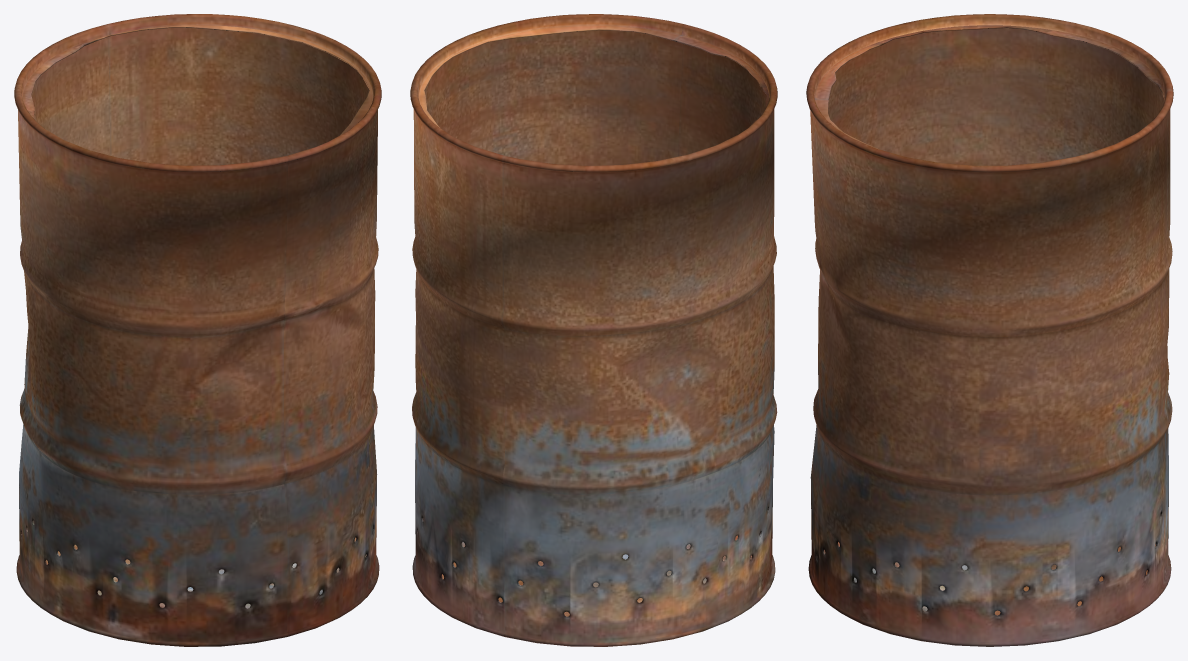
Rendered from fire_barrel.glb.
3 renders of one model, left to right at view 1: azimuth 30°, elevation 25°; view 2: azimuth 150°, elevation 25°; view 3: azimuth 270°, elevation 25°, orthographic.
Parts seen in each view (by area): view 1: barrel_stove; view 2: barrel_stove; view 3: barrel_stove.
Boxes of the visible parts, left/top/right/bottom form: barrel_stove: left=14, top=14, right=381, bottom=646; barrel_stove: left=410, top=14, right=777, bottom=646; barrel_stove: left=806, top=14, right=1173, bottom=646.
Bounding box in the file's own units: 0.5926 × 0.8556 × 0.5925.
1 material, 1 textured.
